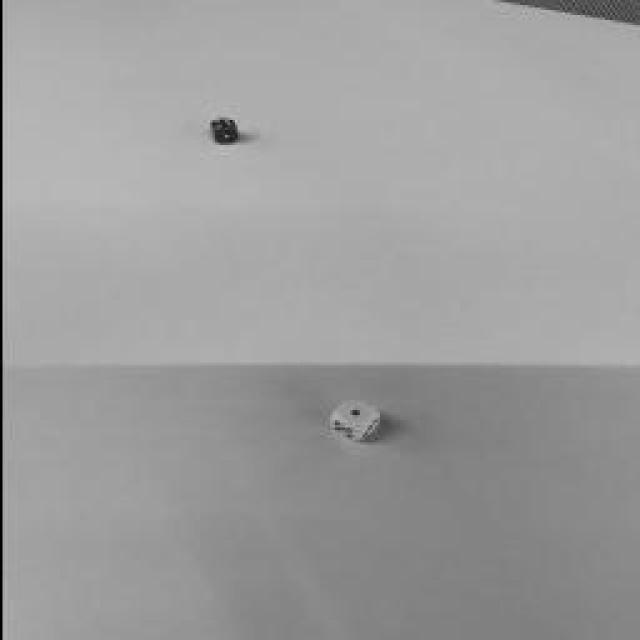dice_1: (335, 400, 375, 428)
dice_4: (208, 119, 234, 129)
